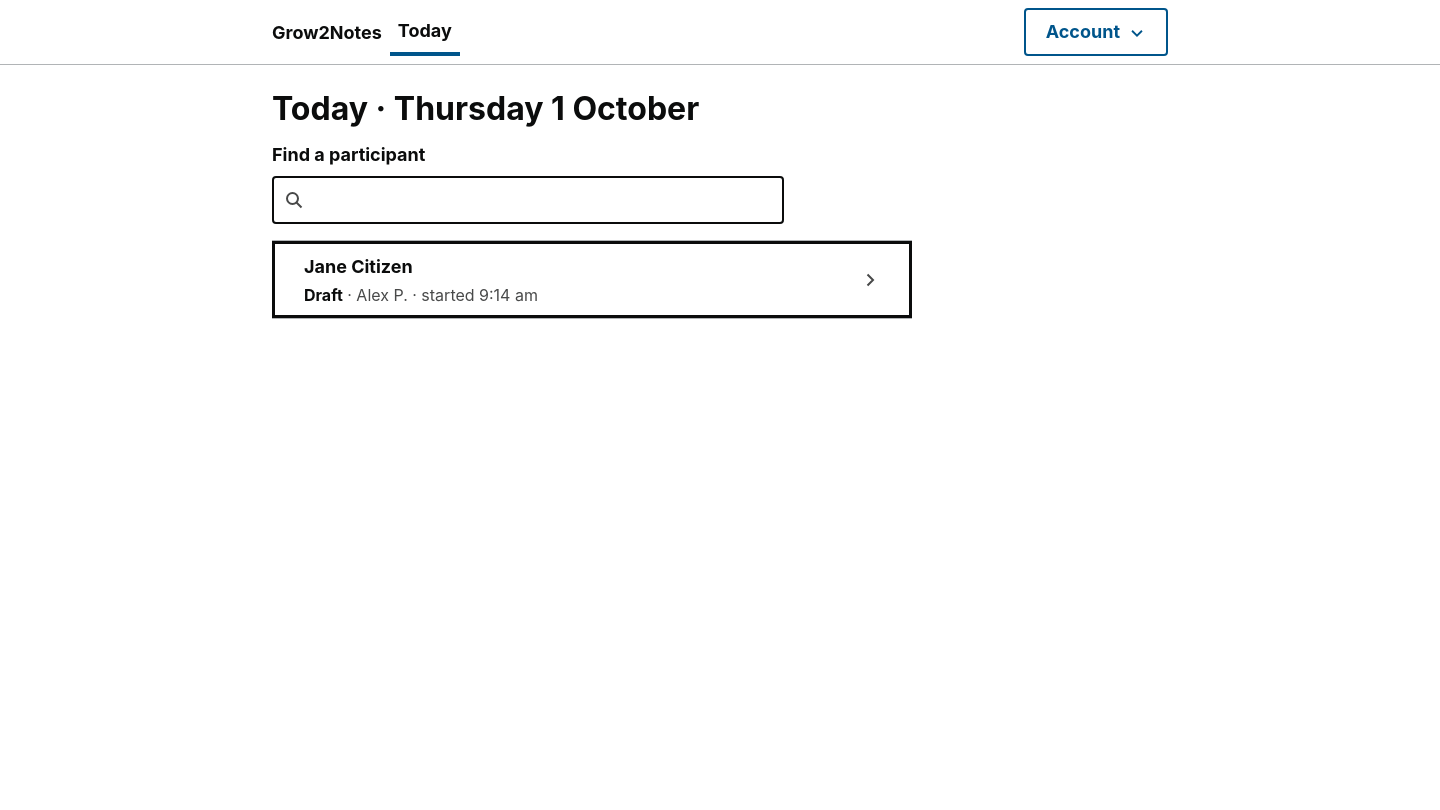
Test: Today, opening a row › opens the server's read view at a row whose line says Alex P.'s draft, which was submitted since
The width and height of the screenshot is (1440, 810).
Click the link "Jane Citizen" at (358, 266), box [304,256,413,277]
Wait 2 ms
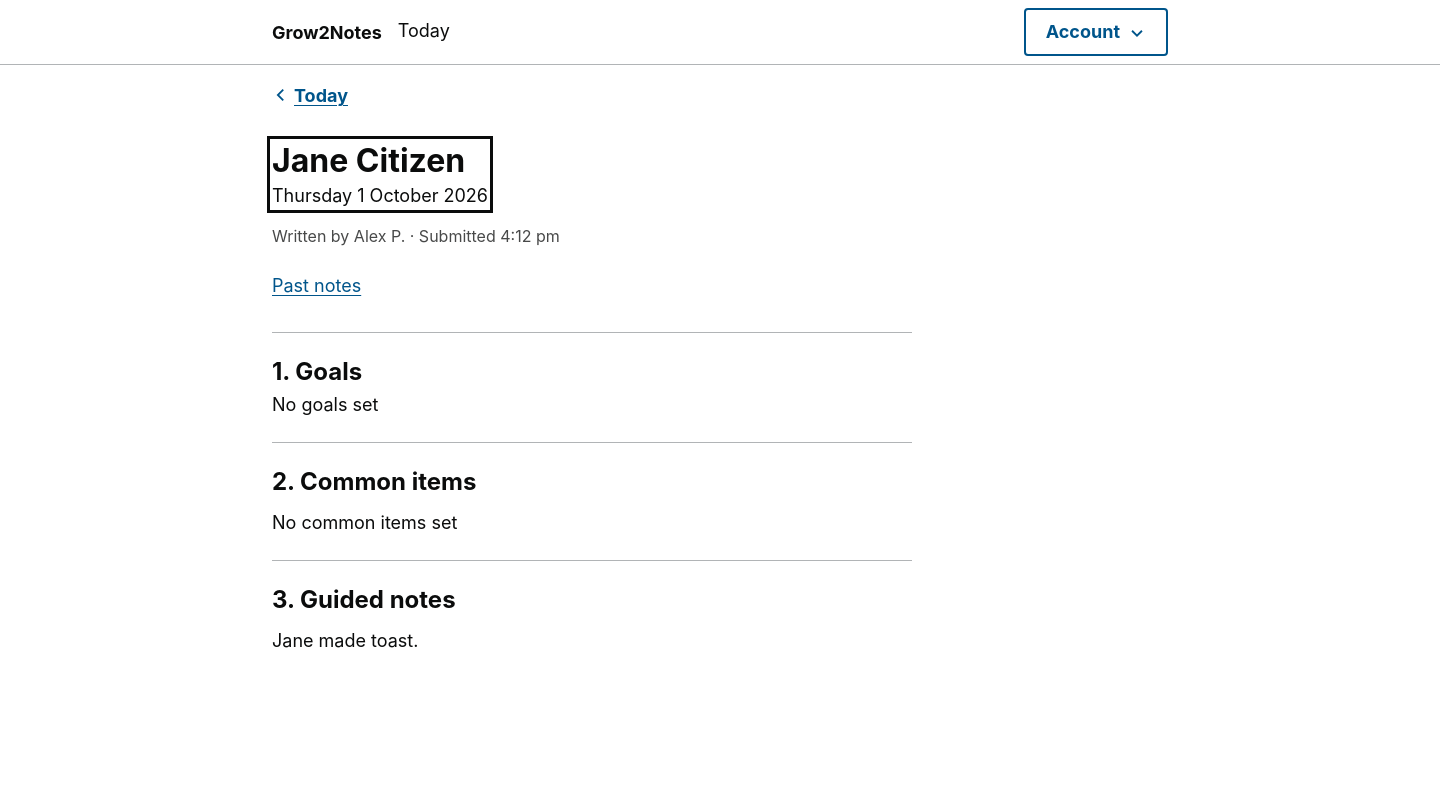
Expected: the text "Written by Alex P. · Submitted 4:12 pm" is shown, [272,224,560,246]
Expected: the field is gone
